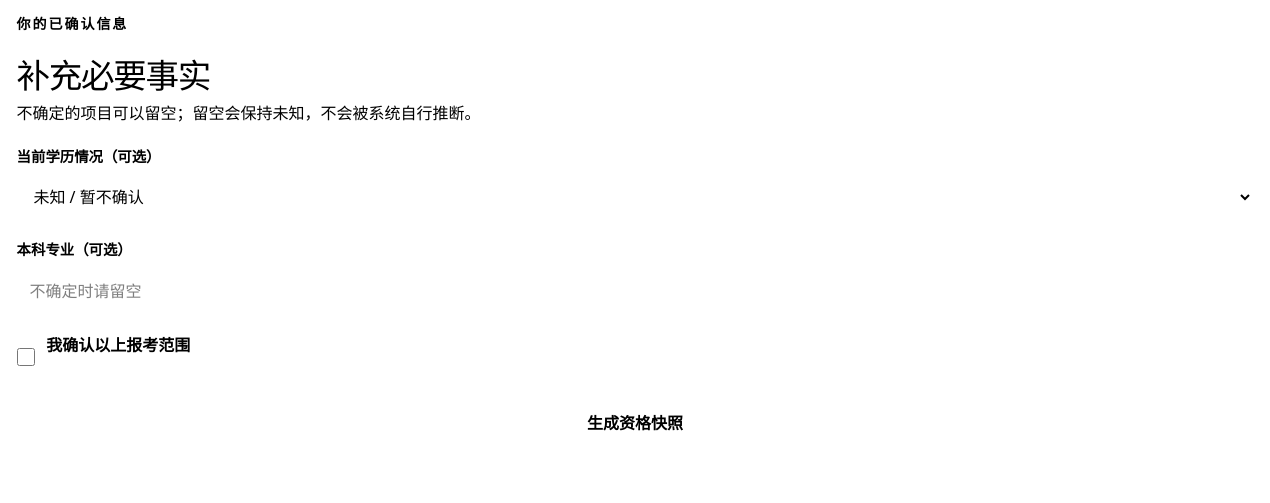
fact form › stops before comparison unless all three assessments need confirmation
The width and height of the screenshot is (1270, 503).
What coordinates should you click on to do the following:
click the checkbox labelled "我确认以上报考范围"
I would click on:
 (26, 357)
Its box is x1=17 y1=335 x2=35 y2=379.
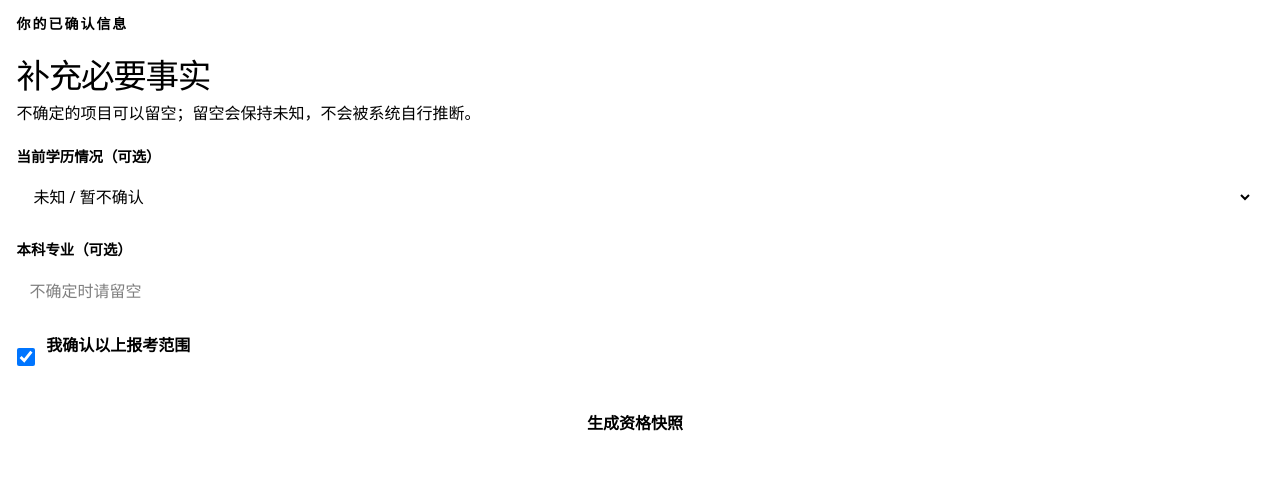
What coordinates should you click on to do the following:
click the button "生成资格快照"
I would click on:
 (635, 423)
Its box is x1=17 y1=398 x2=1253 y2=447.
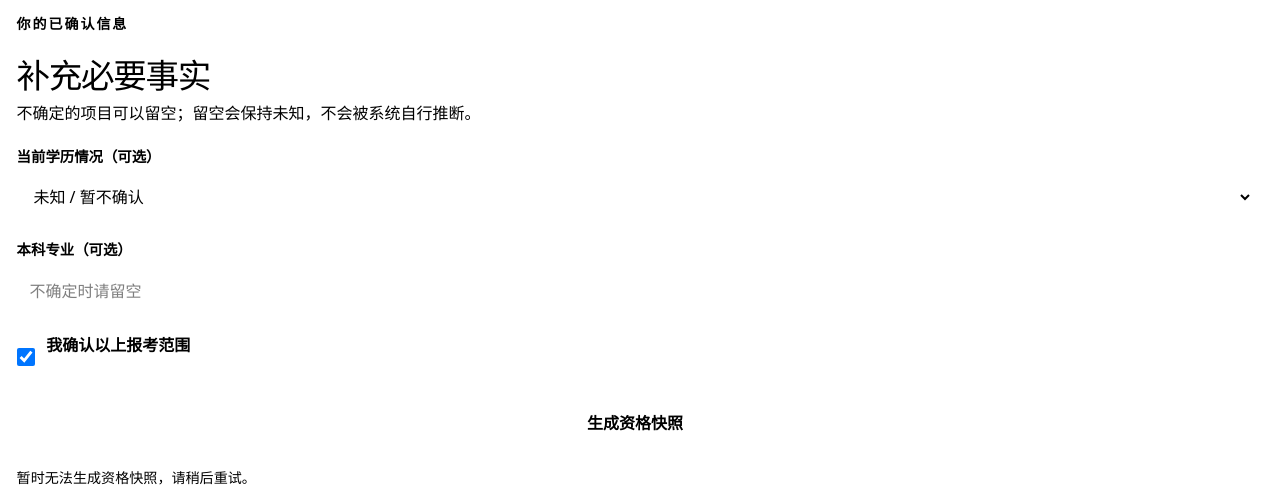
Expected: the text "暂时无法生成资格快照，请稍后重试。" is shown, x1=17 y1=468 x2=256 y2=486
